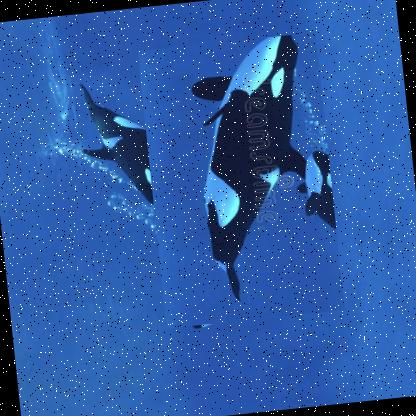killer_whale: (137, 29, 345, 326), (51, 40, 186, 223)
